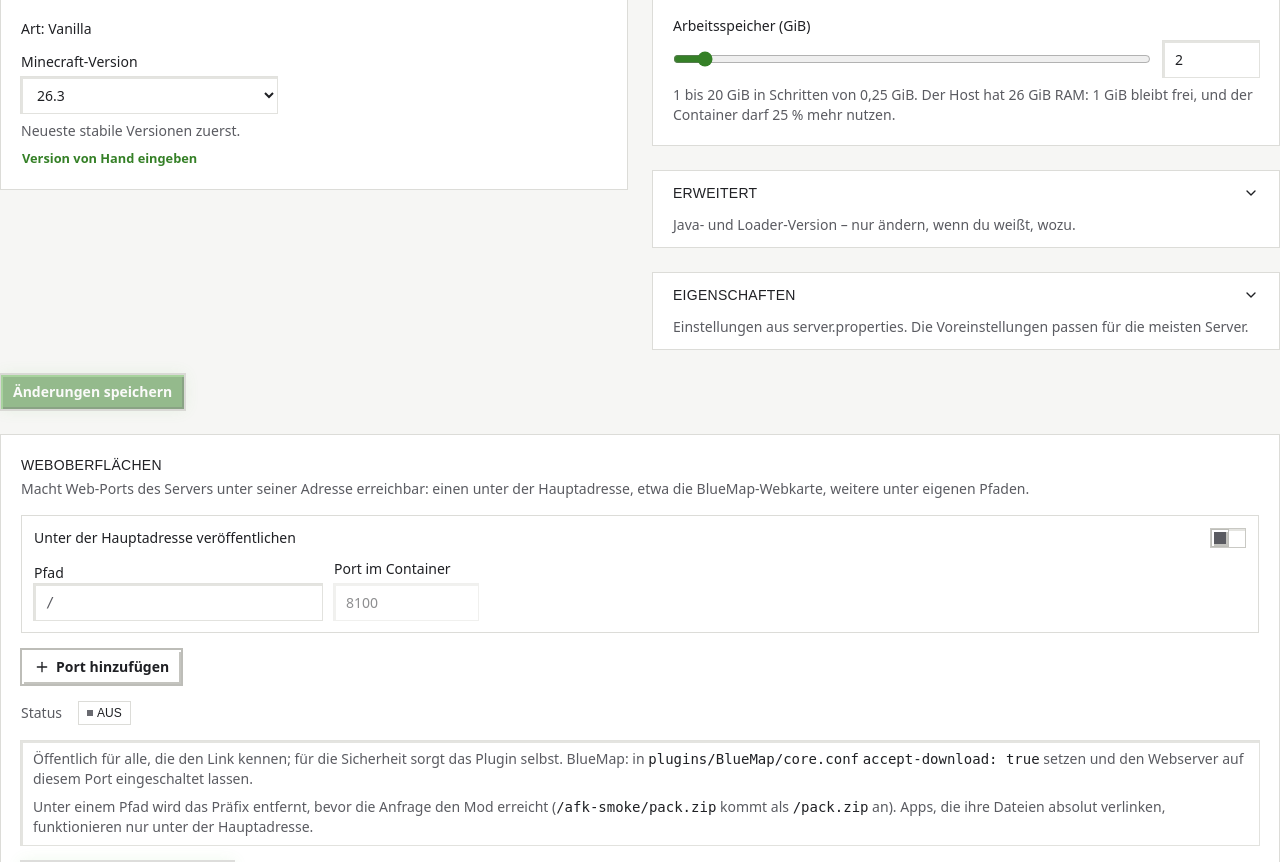
Test: WebRoutesSection › publishes the root with the prefilled 8100 and shows the status and the URL
Step 1. Click the switch named "Unter der Hauptadresse veröffentlichen" → (1228,538), box [1210,528,1246,548]
(page scrolled)
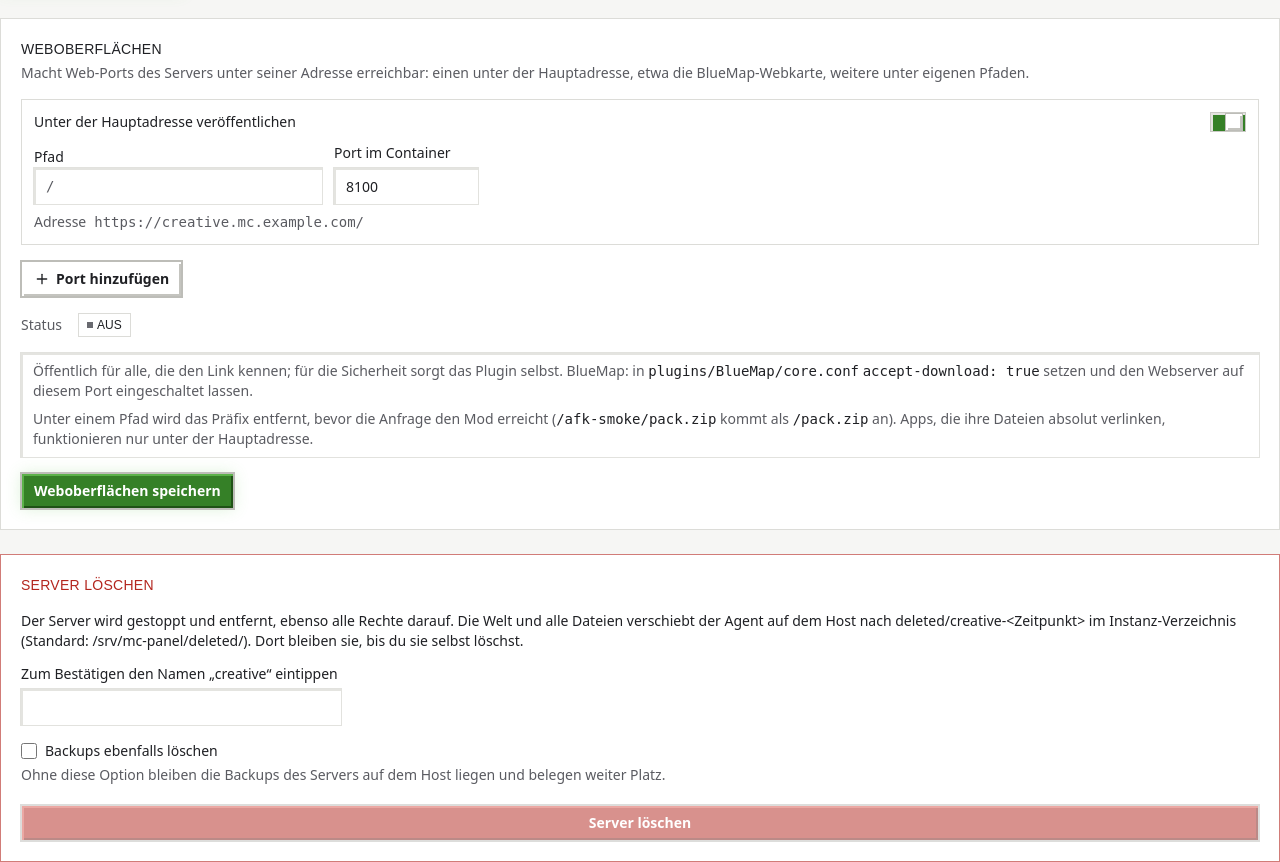
Check: the number field named "Port im Container für die Hauptadresse" holds "8100", box [334,168,478,204]
Check: the text "https://creative.mc.example.com/" is shown, box [94,212,364,232]
Step 2. Click the button "Weboberflächen speichern" → (127,491), box [21,473,234,509]
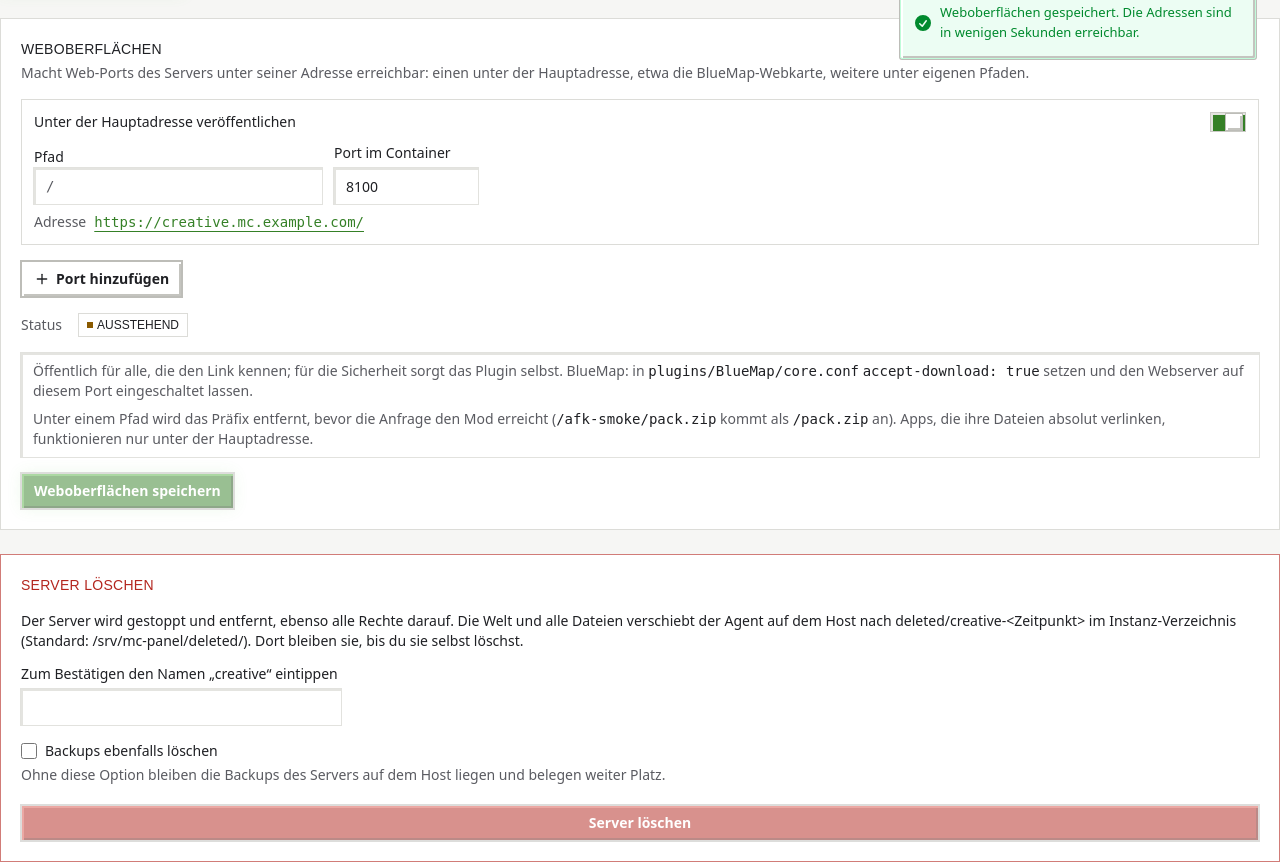
Check: the switch named "Unter der Hauptadresse veröffentlichen" is checked, box [1210,112,1246,132]
Check: the text "Ausstehend" is shown, box [78,313,188,337]
